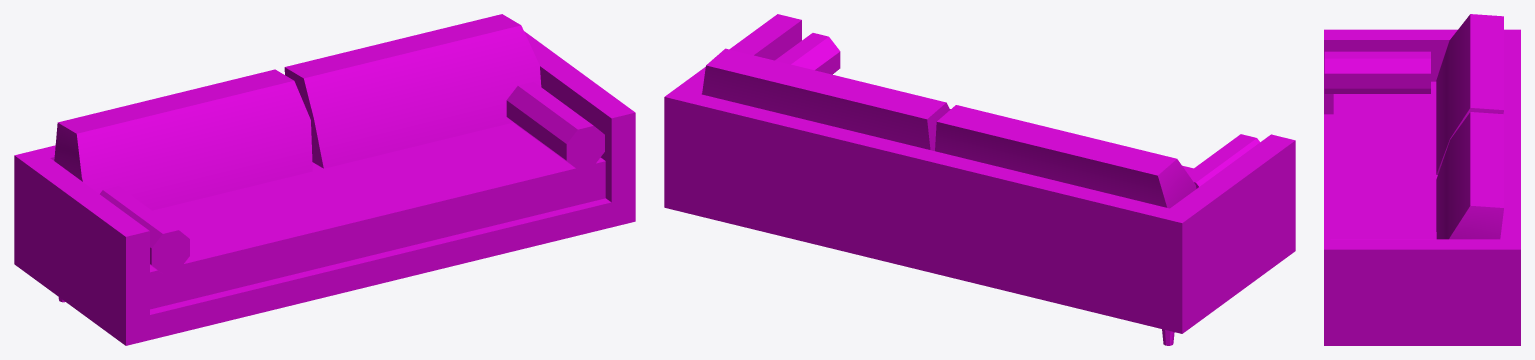
Rendered from High_Poly_Sofa.fbx.
3 renders of one model, left to right at view 1: azimuth 30°, elevation 25°; view 2: azimuth 150°, elevation 25°; view 3: azimuth 270°, elevation 25°, orthographic. The views are drawn at different scales.
Parts seen in each view (by area): view 1: Circle; view 2: Circle; view 3: Circle.
Boxes of the visible parts, x1,y1,x2,y2 form: Circle: (14,14,635,345); Circle: (664,14,1295,345); Circle: (1324,14,1520,345).
Size of the model in its own units: 160 by 138 by 423.
